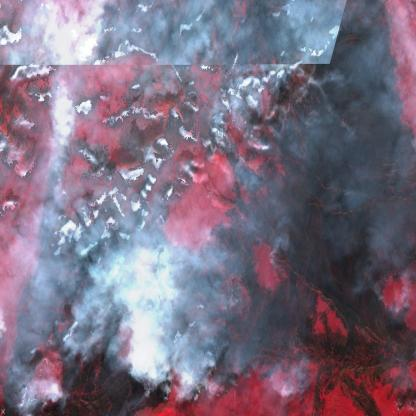fire: (141, 346, 245, 410), (73, 0, 116, 68), (48, 131, 82, 182), (207, 119, 232, 155)
